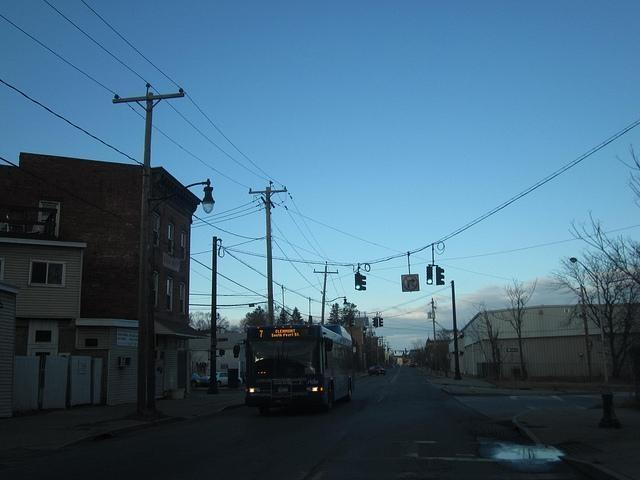bus: (245, 323, 354, 413)
car: (204, 372, 243, 388), (190, 372, 210, 387), (369, 366, 386, 376), (396, 364, 400, 368)
